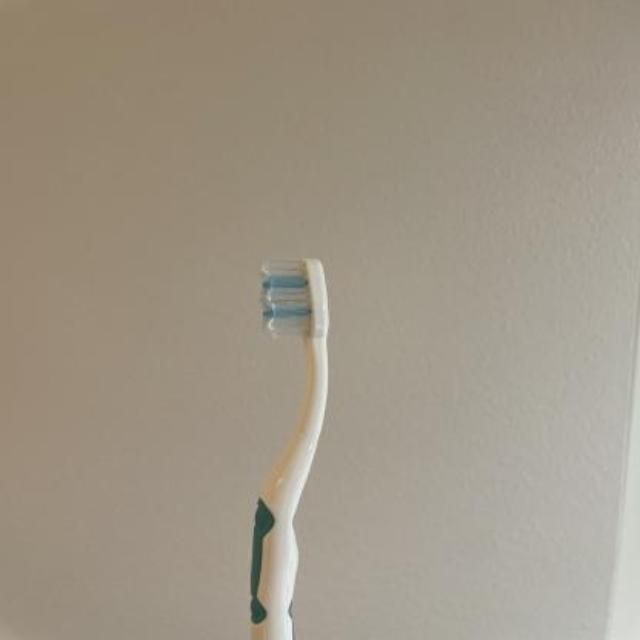toothbrush: (235, 245, 339, 640)
